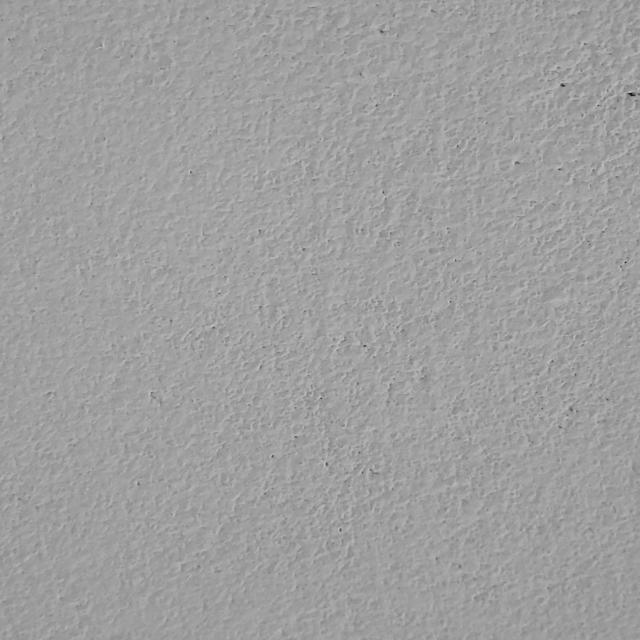rough and patchy surface: (5, 5, 631, 635)
